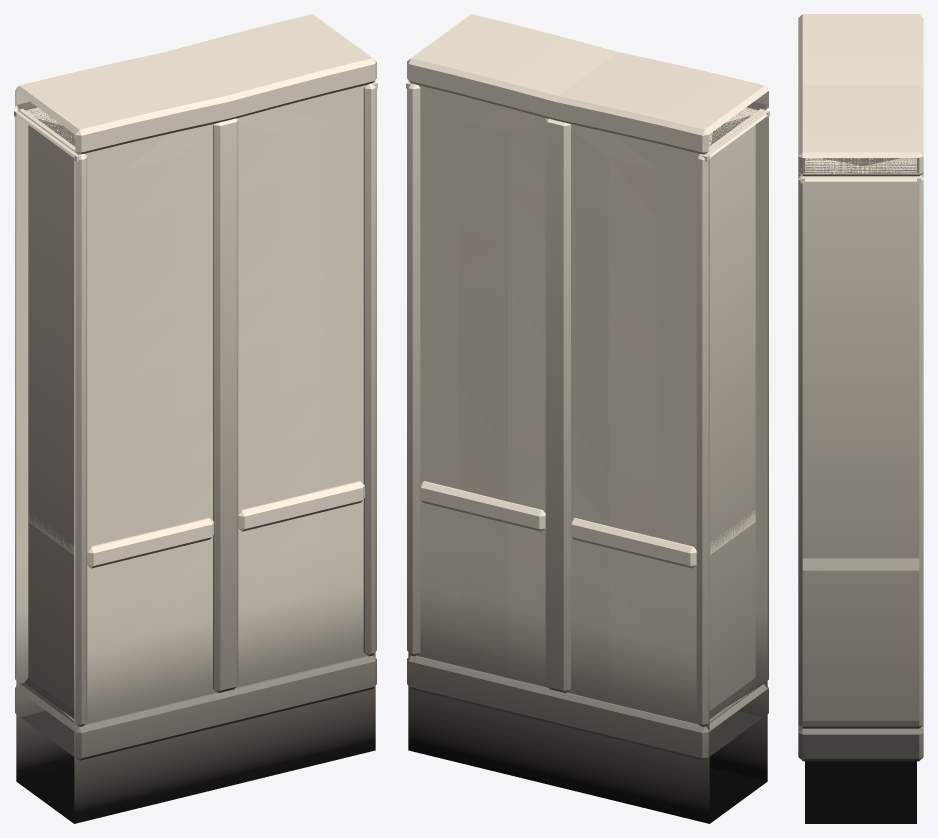
Rendered from SM_VKI_Wall_Timber_Plain_150A_Full.fbx.
3 views of the same model, side by side, from view 1: azimuth 30°, elevation 25°; view 2: azimuth 150°, elevation 25°; view 3: azimuth 270°, elevation 25° (orthographic). The views are drawn at different scales.
Parts seen in each view (by area): view 1: SM_VKI_Wall_Timber_Plain_150A_Full.001; view 2: SM_VKI_Wall_Timber_Plain_150A_Full.001; view 3: SM_VKI_Wall_Timber_Plain_150A_Full.001.
Boxes of the visible parts, <box> form: SM_VKI_Wall_Timber_Plain_150A_Full.001: <box>14,14,377,823</box>; SM_VKI_Wall_Timber_Plain_150A_Full.001: <box>406,14,769,823</box>; SM_VKI_Wall_Timber_Plain_150A_Full.001: <box>798,14,923,823</box>.
Bounding box in the file's own units: 1.5 × 3.3 × 0.56.
